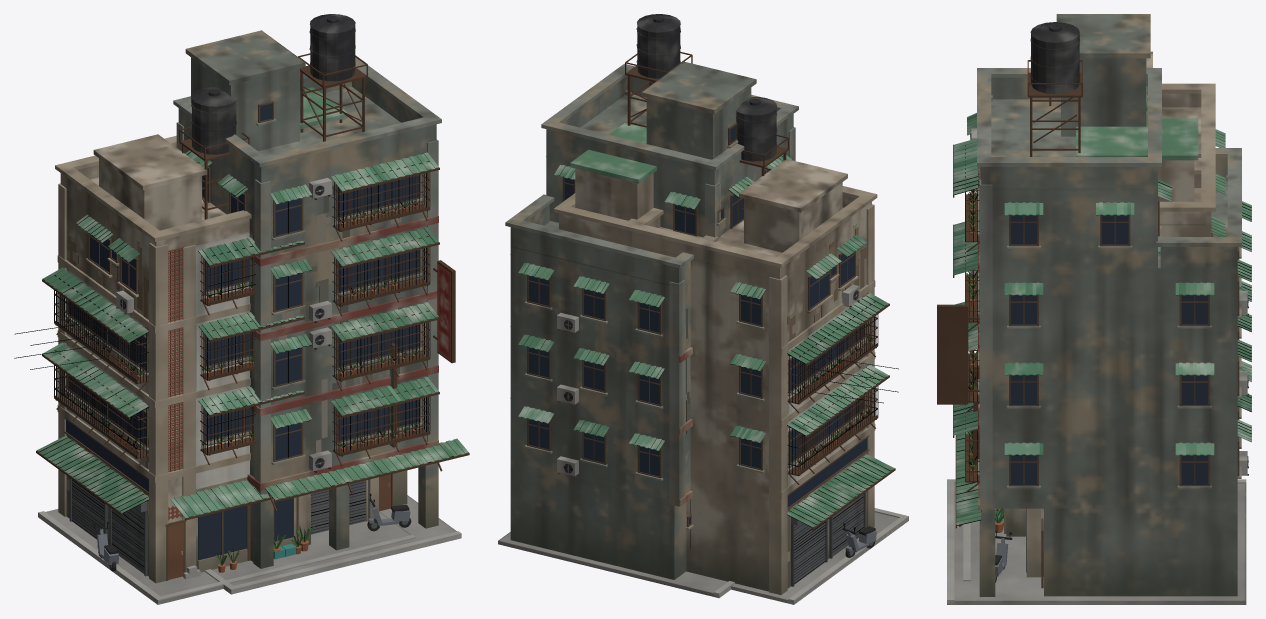
The model's file is apartments.glb.
The picture shows the model from 3 angles, left to right: view 1: azimuth 30°, elevation 25°; view 2: azimuth 150°, elevation 25°; view 3: azimuth 270°, elevation 25°; orthographic projection. The views are drawn at different scales.
Parts seen in each view (by area): view 1: AptA, AptB; view 2: AptA, AptB; view 3: AptA, AptB.
Part boxes in pixels (x1,y1,x2,y2): AptA: (14, 14, 469, 594); AptB: (36, 87, 415, 604); AptA: (498, 14, 898, 597); AptB: (553, 97, 908, 604); AptA: (937, 14, 1251, 604); AptB: (963, 51, 1225, 581).
Size of the model in its own units: 15.91 by 20.81 by 11.05.
2 materials, 2 textured.
